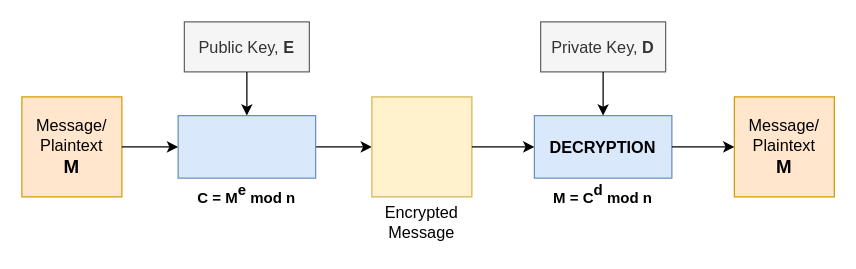
Image size: 856x269. Some labels were removed from this diagram. The centre of each missing label's shape, as x and y in pixels:
Ciphertext C: the point at 421,146
ENCRYPTION: the point at 246,146
